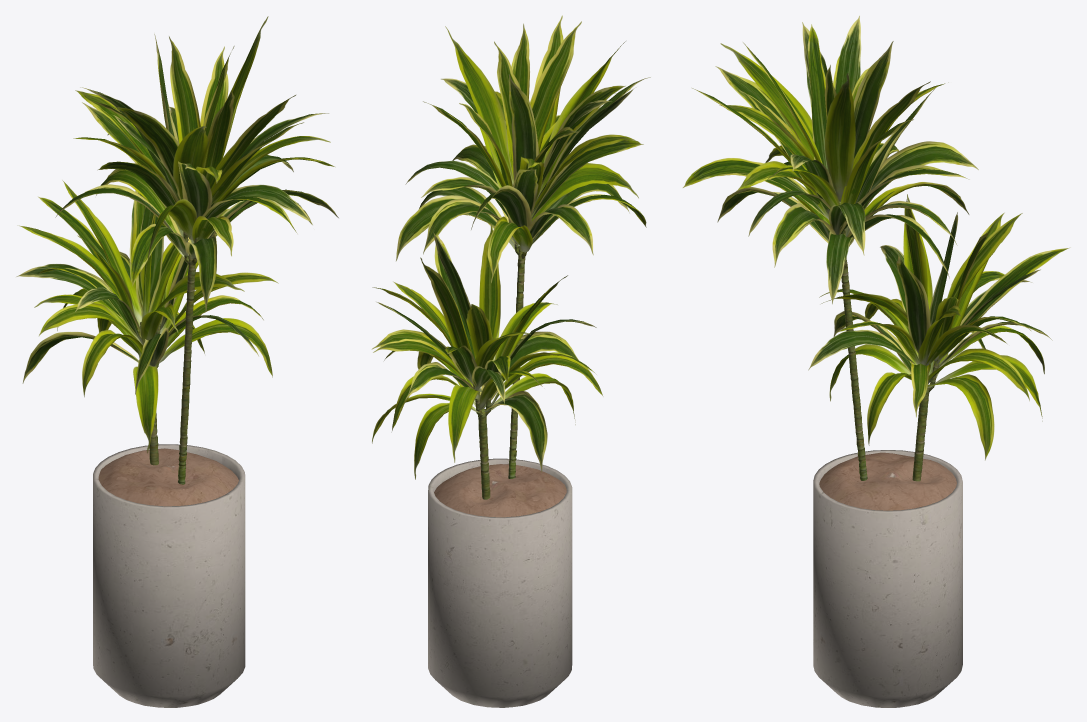
File: bk_dracaena.glb
3 views of the same model, side by side, from view 1: azimuth 30°, elevation 25°; view 2: azimuth 150°, elevation 25°; view 3: azimuth 270°, elevation 25° (orthographic). The views are drawn at different scales.
Parts seen in each view (by area): view 1: House Plant Dracaena Lemon Lime; view 2: House Plant Dracaena Lemon Lime; view 3: House Plant Dracaena Lemon Lime.
Boxes of the visible parts, x1,y1,x2,y2 form: House Plant Dracaena Lemon Lime: (16, 16, 338, 707); House Plant Dracaena Lemon Lime: (371, 15, 650, 707); House Plant Dracaena Lemon Lime: (683, 15, 1070, 707).
Size of the model in its own units: 0.6548 by 1.73 by 0.941.
Materials: 4 (4 with a texture image).
